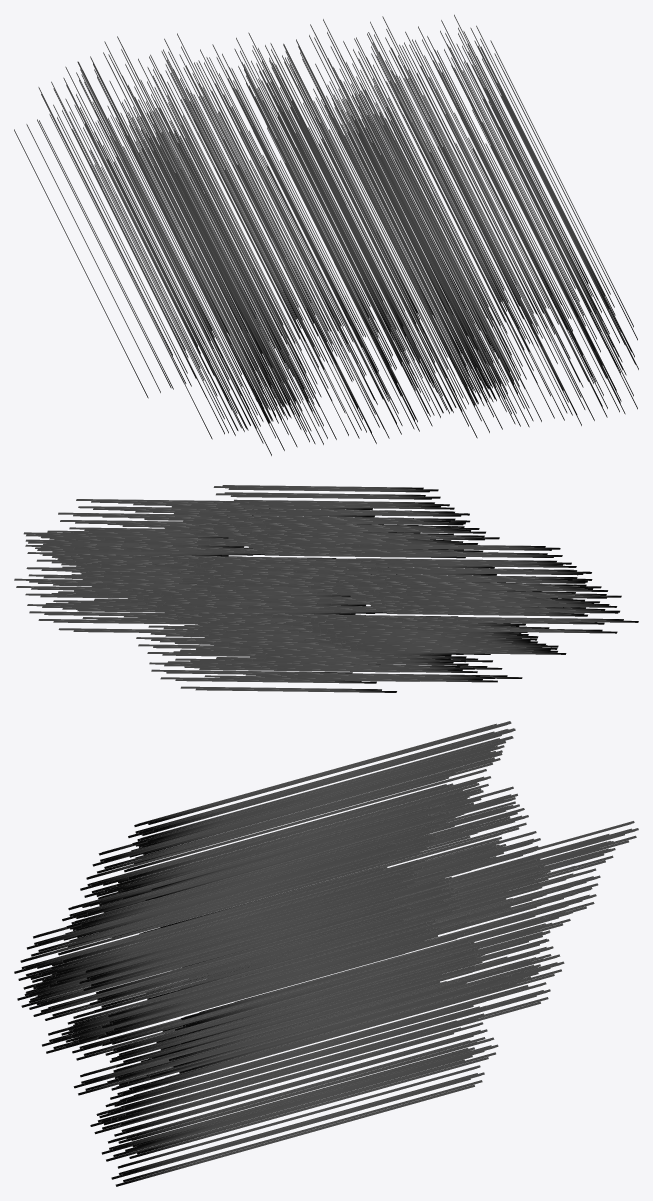
File: GOD_RAYS.glb
3 renders of one model, top to bottom at view 1: azimuth 30°, elevation 25°; view 2: azimuth 150°, elevation 25°; view 3: azimuth 270°, elevation 25°, orthographic. The views are drawn at different scales.
Visible parts, largest first — view 1: godRay_Master; view 2: godRay_Master; view 3: godRay_Master.
Part boxes in pixels (x1,y1,x2,y2): godRay_Master: [14, 14, 638, 455]; godRay_Master: [14, 485, 638, 692]; godRay_Master: [14, 721, 638, 1186].
Size of the model in its own units: 154 by 86.35 by 158.
1 material, 1 textured.
